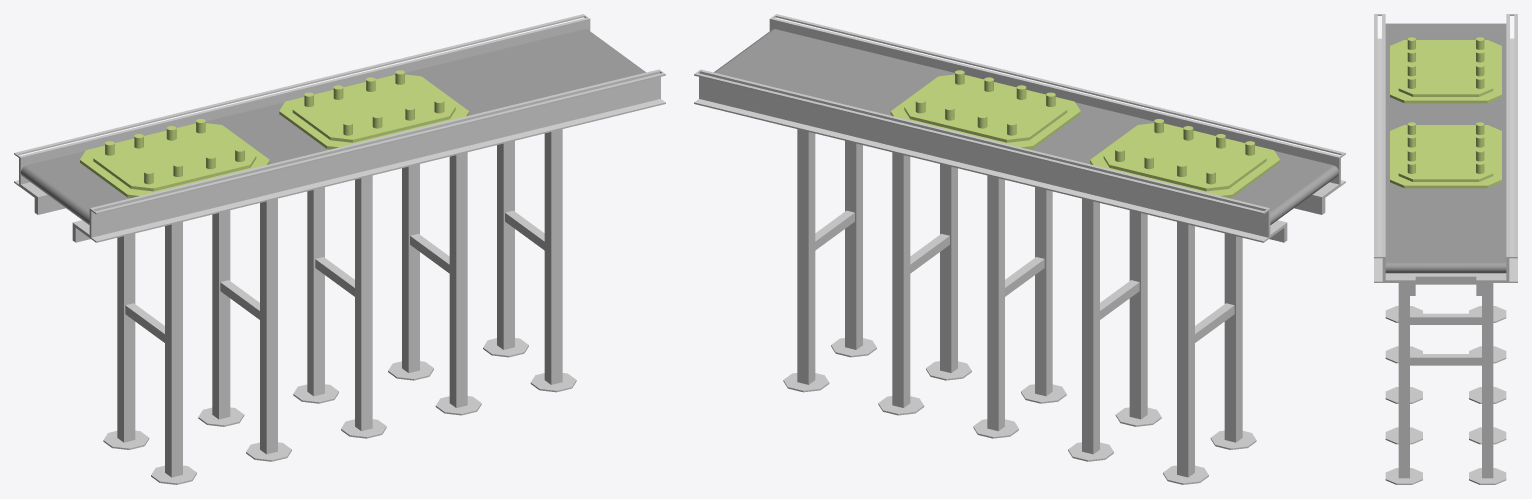
File: PM_Förderband&Werkstückträger_Schrauben.fbx
3 renders of one model, left to right at view 1: azimuth 30°, elevation 25°; view 2: azimuth 150°, elevation 25°; view 3: azimuth 270°, elevation 25°, orthographic. The views are drawn at different scales.
Visible parts, largest first — view 1: PM_Materialfluss_Förderband.011, PM_Materialfluss_Förderband.014, PM_Materialfluss_Förderband.008, PM_Materialfluss_Förderband.009, PM_Materialfluss_Förderband.005, PM_Materialfluss_Förderband.004, PM_Materialfluss_Förderband.010, PM_Materialfluss_Förderband.019, PM_Materialfluss_Förderband.018, PM_Materialfluss_Förderband.006, PM_Materialfluss_Förderband.007, PM_Materialfluss_Förderband.017; view 2: PM_Materialfluss_Förderband.010, PM_Materialfluss_Förderband.014, PM_Materialfluss_Förderband.008, PM_Materialfluss_Förderband.009, PM_Materialfluss_Förderband.005, PM_Materialfluss_Förderband.004, PM_Materialfluss_Förderband.011, PM_Materialfluss_Förderband.019, PM_Materialfluss_Förderband.018, PM_Materialfluss_Förderband.007, PM_Materialfluss_Förderband.006, PM_Materialfluss_Förderband.017; view 3: PM_Materialfluss_Förderband.014, PM_Materialfluss_Förderband.018, PM_Materialfluss_Förderband.019, PM_Materialfluss_Förderband.009, PM_Materialfluss_Förderband.010, PM_Materialfluss_Förderband.011, PM_Materialfluss_Förderband.008, PM_Materialfluss_Förderband.017, PM_Materialfluss_Förderband.004, PM_Materialfluss_Förderband.005, PM_Materialfluss_Förderband.002, PM_Materialfluss_Förderband.003 (+2 smaller).
Boxes of the visible parts, x1=… form: PM_Materialfluss_Förderband.011: x1=89, y1=69, x2=665, y2=242; PM_Materialfluss_Förderband.014: x1=20, y1=29, x2=645, y2=224; PM_Materialfluss_Förderband.008: x1=388, y1=152, x2=481, y2=415; PM_Materialfluss_Förderband.009: x1=483, y1=129, x2=576, y2=392; PM_Materialfluss_Förderband.005: x1=198, y1=198, x2=291, y2=461; PM_Materialfluss_Förderband.004: x1=103, y1=222, x2=196, y2=484; PM_Materialfluss_Förderband.010: x1=14, y1=14, x2=590, y2=186; PM_Materialfluss_Förderband.019: x1=279, y1=70, x2=469, y2=149; PM_Materialfluss_Förderband.018: x1=80, y1=119, x2=269, y2=197; PM_Materialfluss_Förderband.006: x1=355, y1=175, x2=372, y2=431; PM_Materialfluss_Förderband.007: x1=307, y1=187, x2=324, y2=396; PM_Materialfluss_Förderband.017: x1=315, y1=257, x2=354, y2=296; PM_Materialfluss_Förderband.010: x1=694, y1=69, x2=1270, y2=242; PM_Materialfluss_Förderband.014: x1=714, y1=29, x2=1339, y2=224; PM_Materialfluss_Förderband.008: x1=878, y1=152, x2=971, y2=415; PM_Materialfluss_Förderband.009: x1=783, y1=129, x2=876, y2=392; PM_Materialfluss_Förderband.005: x1=1068, y1=198, x2=1161, y2=461; PM_Materialfluss_Förderband.004: x1=1163, y1=222, x2=1256, y2=484; PM_Materialfluss_Förderband.011: x1=769, y1=14, x2=1345, y2=186; PM_Materialfluss_Förderband.019: x1=890, y1=70, x2=1080, y2=149; PM_Materialfluss_Förderband.018: x1=1090, y1=119, x2=1279, y2=197; PM_Materialfluss_Förderband.007: x1=987, y1=175, x2=1004, y2=431; PM_Materialfluss_Förderband.006: x1=1035, y1=187, x2=1052, y2=396; PM_Materialfluss_Förderband.017: x1=1005, y1=257, x2=1044, y2=296; PM_Materialfluss_Förderband.014: x1=1385, y1=23, x2=1506, y2=273; PM_Materialfluss_Förderband.018: x1=1390, y1=37, x2=1501, y2=103; PM_Materialfluss_Förderband.019: x1=1390, y1=122, x2=1501, y2=188; PM_Materialfluss_Förderband.009: x1=1385, y1=283, x2=1506, y2=484; PM_Materialfluss_Förderband.010: x1=1506, y1=14, x2=1517, y2=282; PM_Materialfluss_Förderband.011: x1=1374, y1=14, x2=1385, y2=282; PM_Materialfluss_Förderband.008: x1=1385, y1=313, x2=1506, y2=444; PM_Materialfluss_Förderband.017: x1=1415, y1=273, x2=1476, y2=284; PM_Materialfluss_Förderband.004: x1=1385, y1=306, x2=1506, y2=322; PM_Materialfluss_Förderband.005: x1=1385, y1=346, x2=1506, y2=363; PM_Materialfluss_Förderband.002: x1=1469, y1=387, x2=1506, y2=403; PM_Materialfluss_Förderband.003: x1=1385, y1=387, x2=1422, y2=403.
Bounding box in the file's own units: 455 × 233 × 114.
